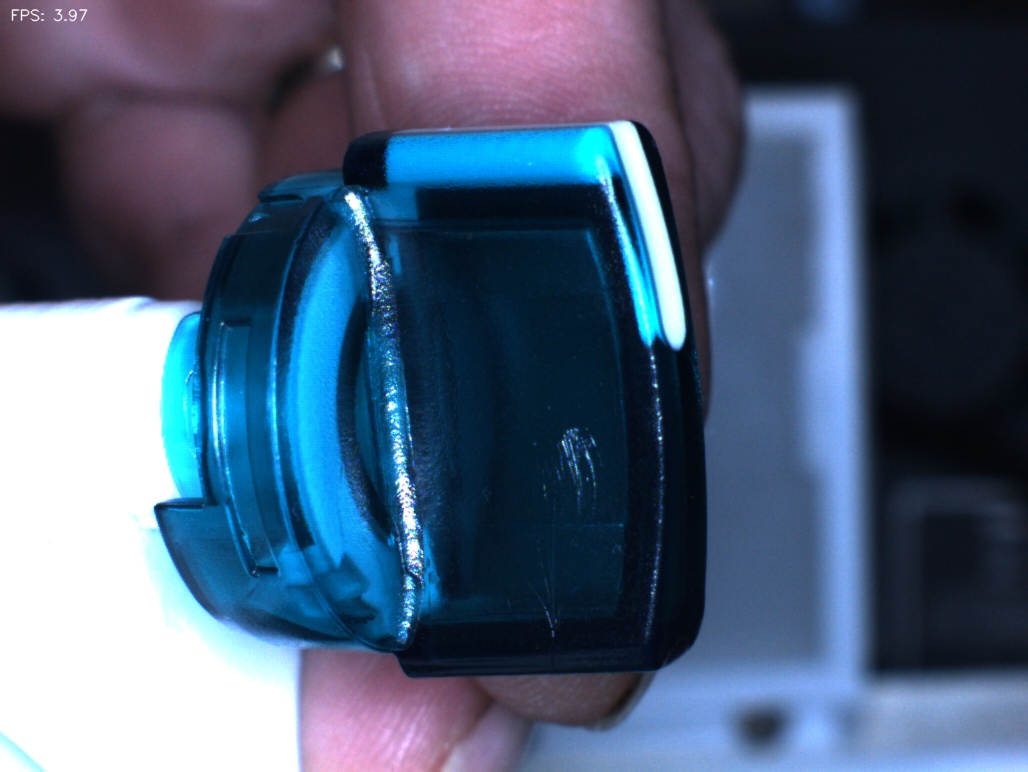Givrage: (514, 408, 608, 650)
